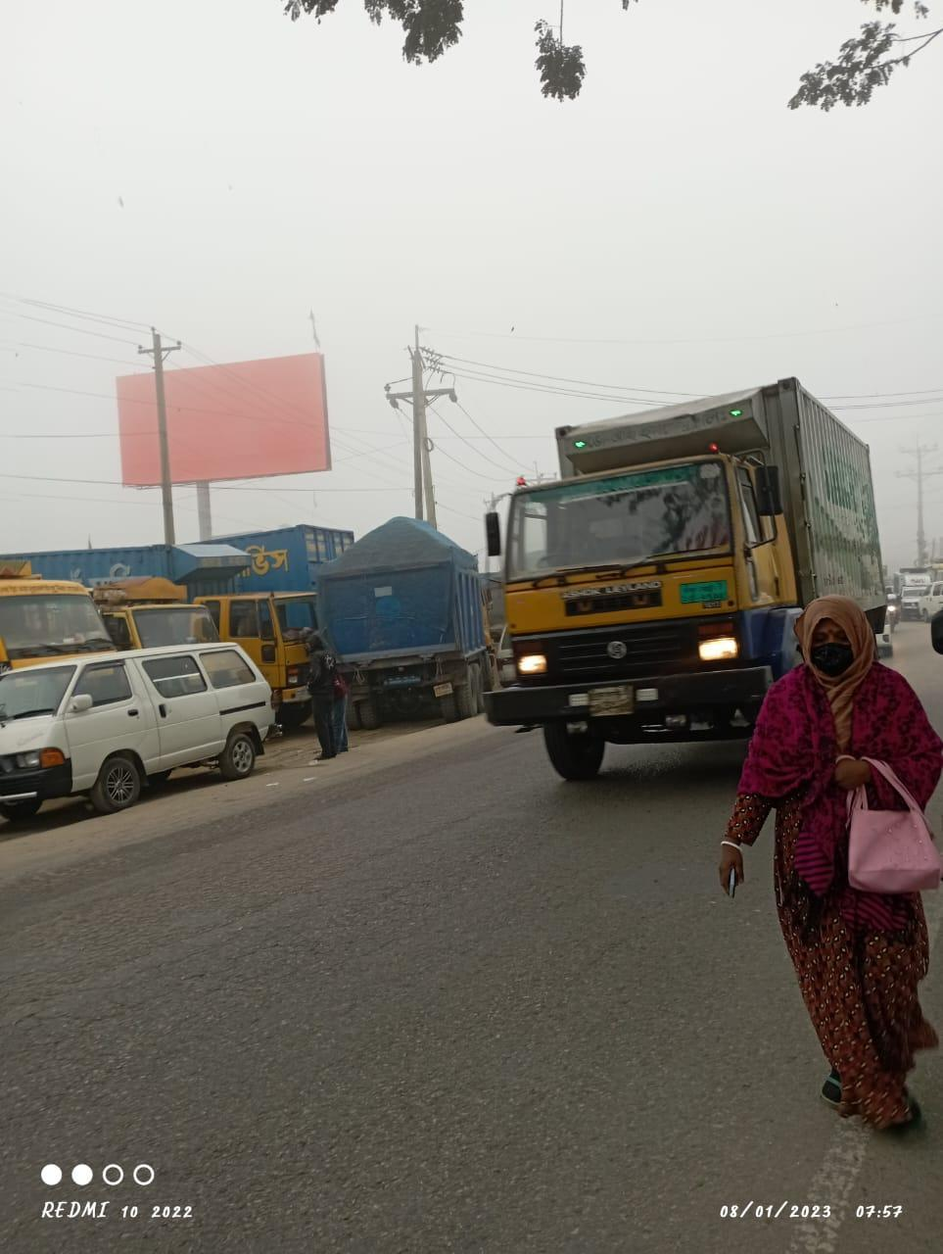Car: (10, 638, 275, 783)
Truck: (479, 389, 887, 734), (307, 516, 492, 738)
